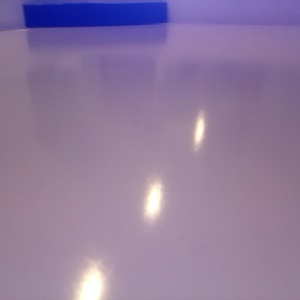zone: (23, 2, 168, 27)
